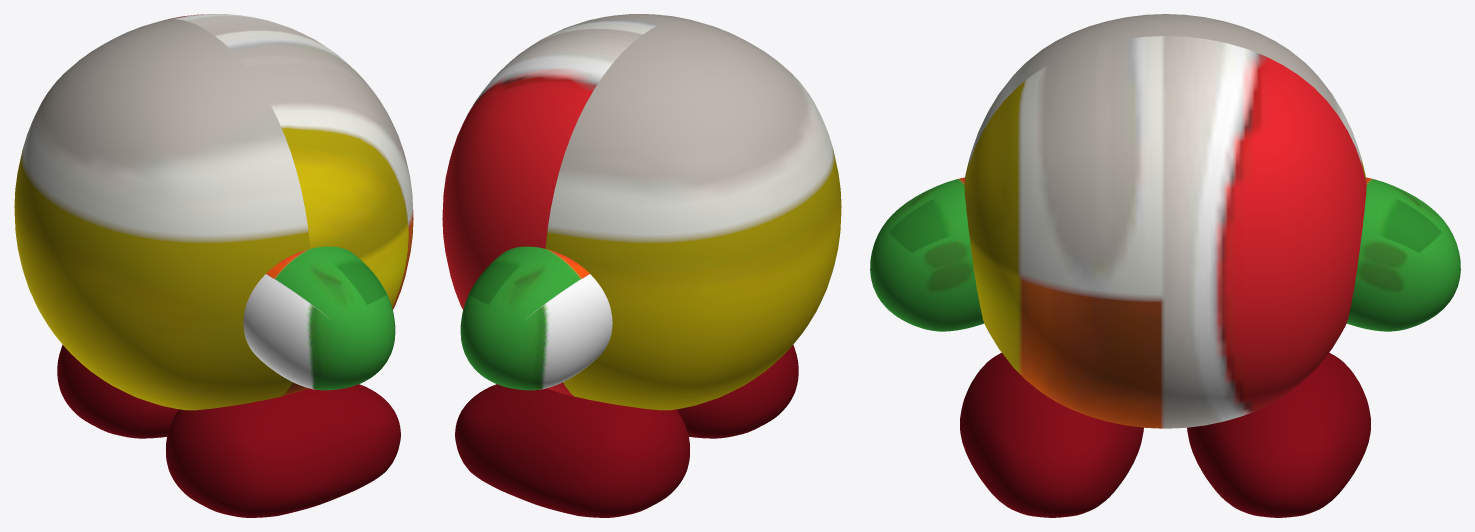
The picture shows the model from 3 angles, left to right: view 1: azimuth 30°, elevation 25°; view 2: azimuth 150°, elevation 25°; view 3: azimuth 270°, elevation 25°; orthographic projection. The views are drawn at different scales.
Parts seen in each view (by area): view 1: Object_8, Object_14, Object_11; view 2: Object_8, Object_14, Object_11; view 3: Object_8, Object_14, Object_11.
Part boxes in pixels (box(x1,y1,x2,y2)): Object_8: box(14, 14, 413, 410); Object_14: box(57, 344, 400, 517); Object_11: box(243, 246, 395, 390); Object_8: box(442, 14, 841, 410); Object_14: box(455, 344, 798, 517); Object_11: box(460, 246, 612, 390); Object_8: box(964, 14, 1366, 428); Object_14: box(960, 352, 1370, 517); Object_11: box(870, 177, 1460, 331).
Size of the model in its own units: 1.6 by 1.89 by 2.31.
